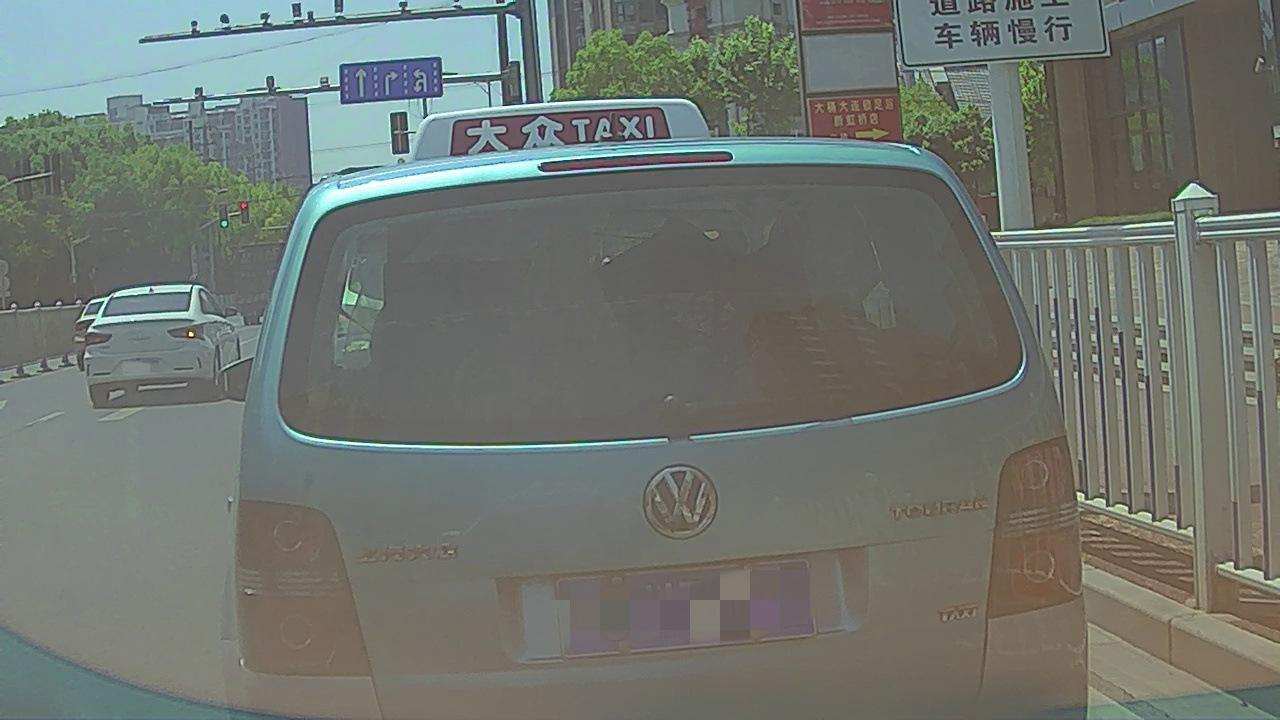traffic_light: (220, 204, 228, 227), (241, 201, 248, 223)
